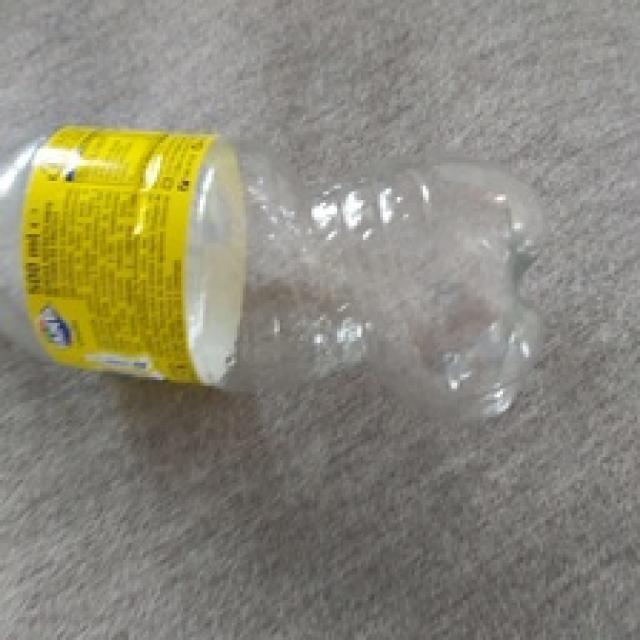Plastic: (0, 126, 549, 418)
